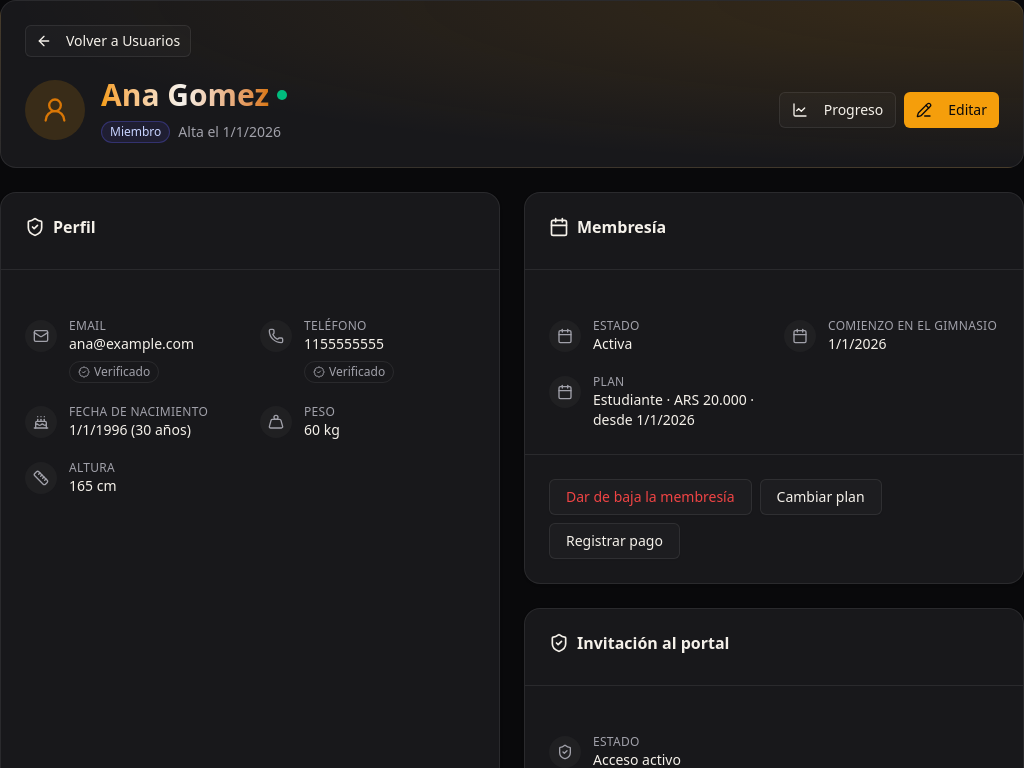
Test: ficha de detalle de un usuario › registrar pago desde la ficha (rebuild-payments-with-plan-pricing) › abre el dialogo de pago desde la ficha de un miembro activo
The width and height of the screenshot is (1024, 768).
Expected: the heading "Ana Gomez" is shown, [101,77,269,113]
Click the button "Registrar pago".
click(614, 541)  # box [549,523,680,559]
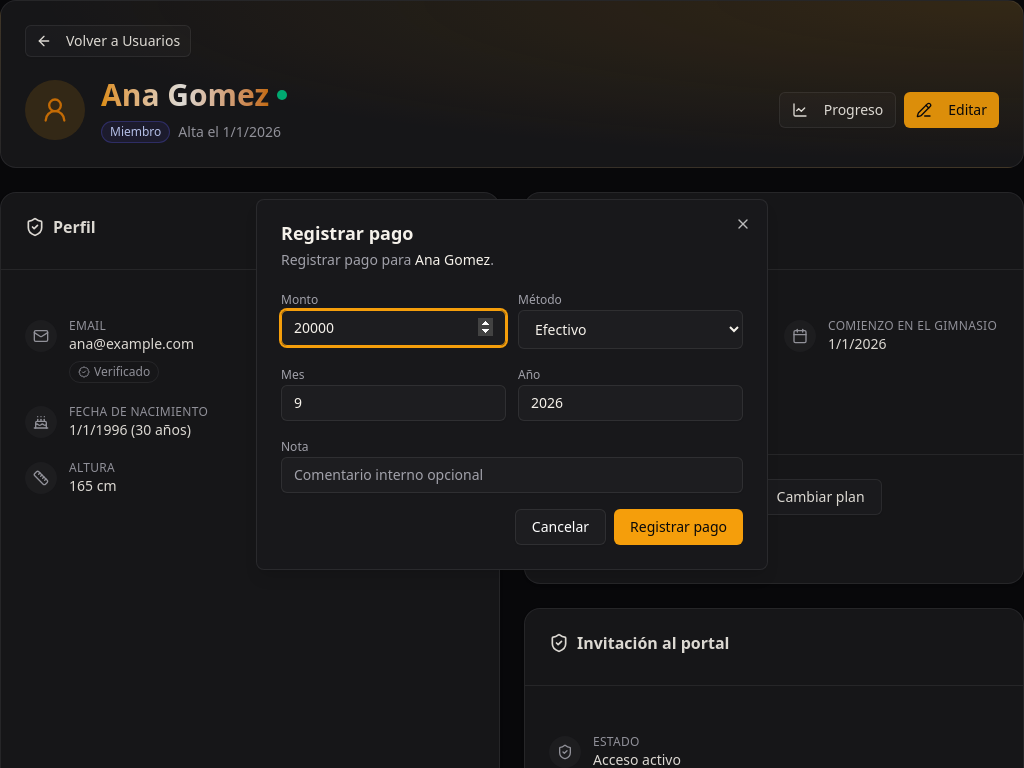
Now the heading "Registrar pago" is shown, box [281,220,414,244]
Now the number field below "Monto" holds "20000", box [281,310,506,346]
